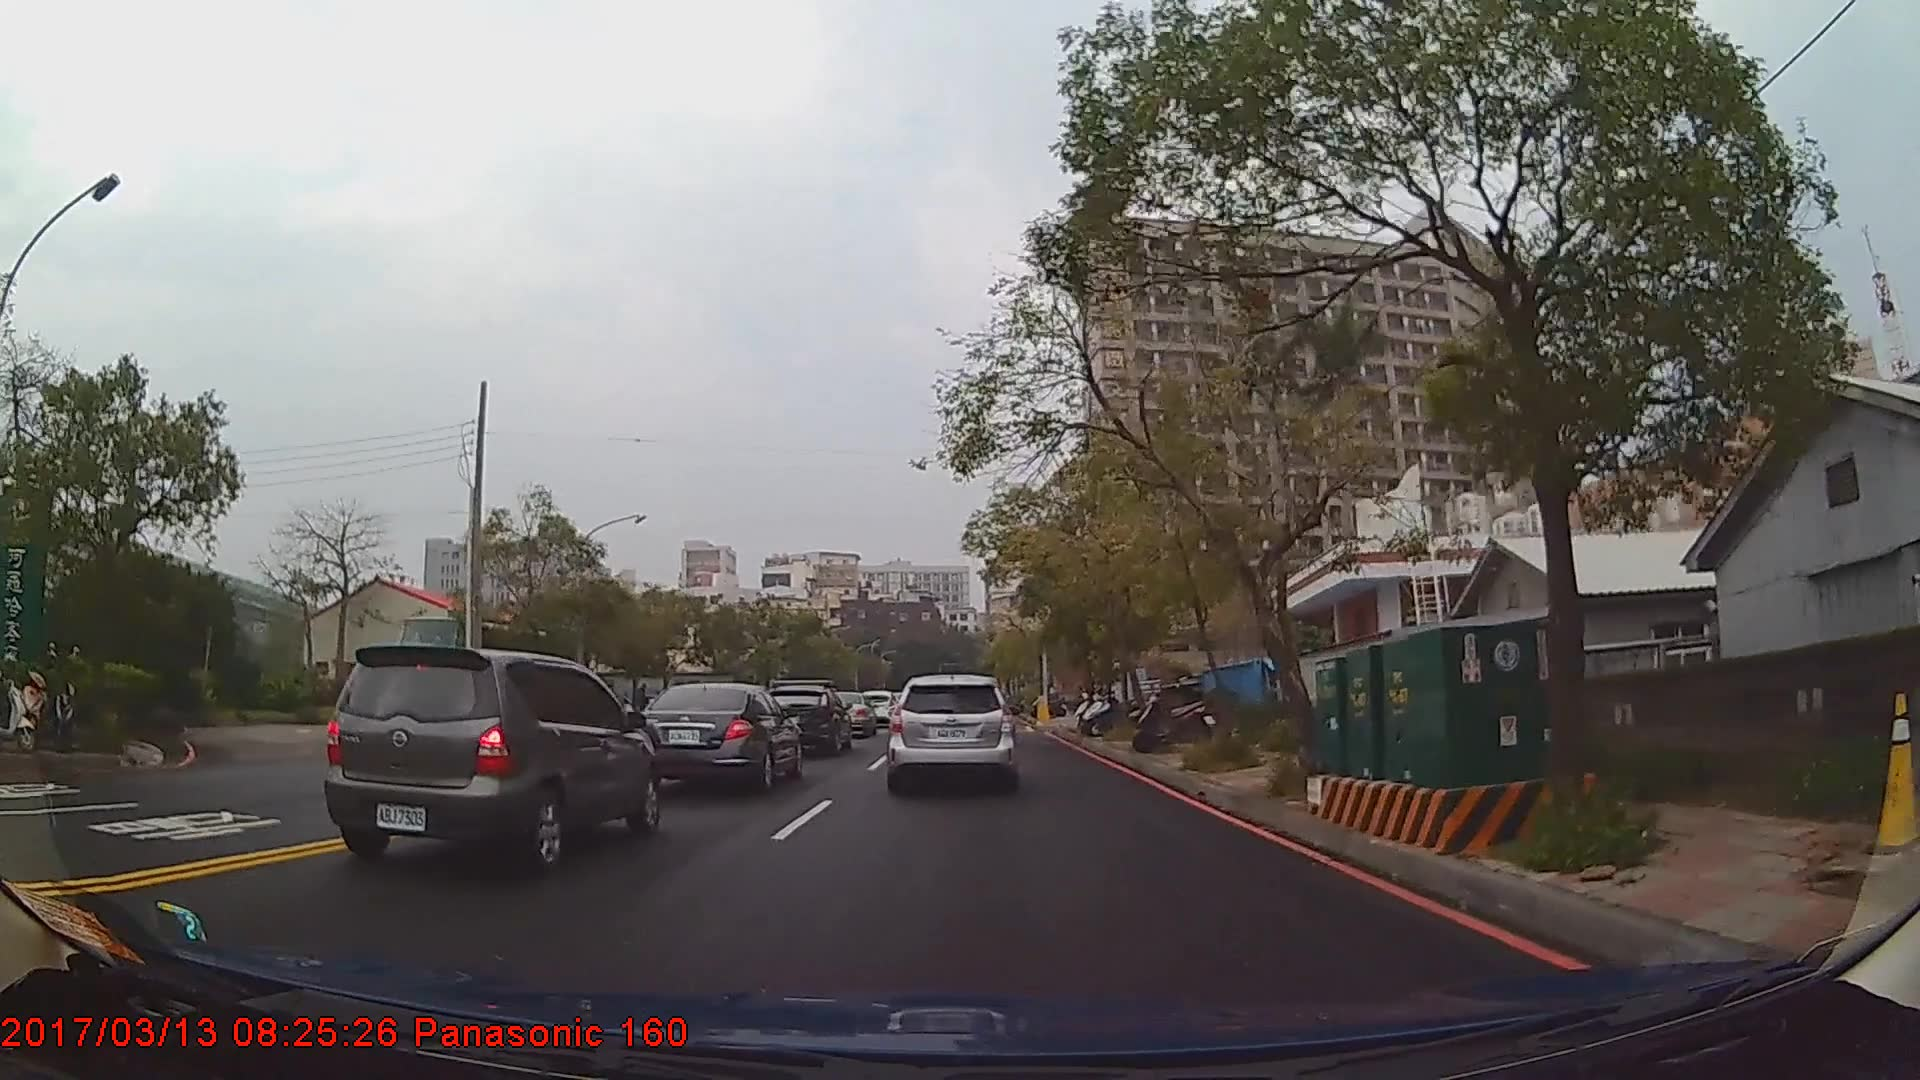vehicle: (320, 640, 659, 869), (630, 678, 804, 789), (886, 671, 1017, 789), (758, 684, 851, 756), (820, 688, 876, 736)
